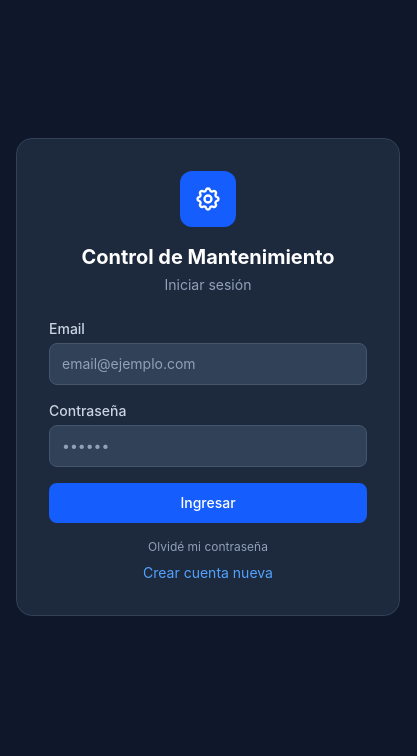
Scenario: Login page › toggles to register form
The image size is (417, 756).
What coordinates should you click on to do the following:
click the button "Crear cuenta nueva"
I would click on:
 (208, 573)
Its box is [143,563,273,583].
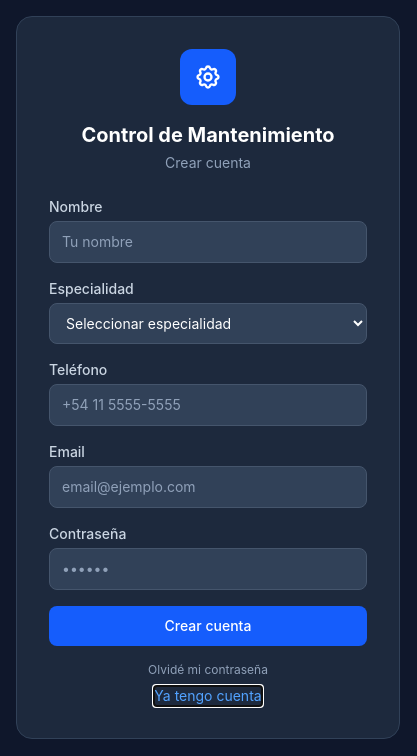
Expected: the text "Crear cuenta" is shown 2 times, [165,154,251,170]; [49,606,367,646]
Expected: the field with placeholder "Tu nombre" is shown, [49,220,367,262]
